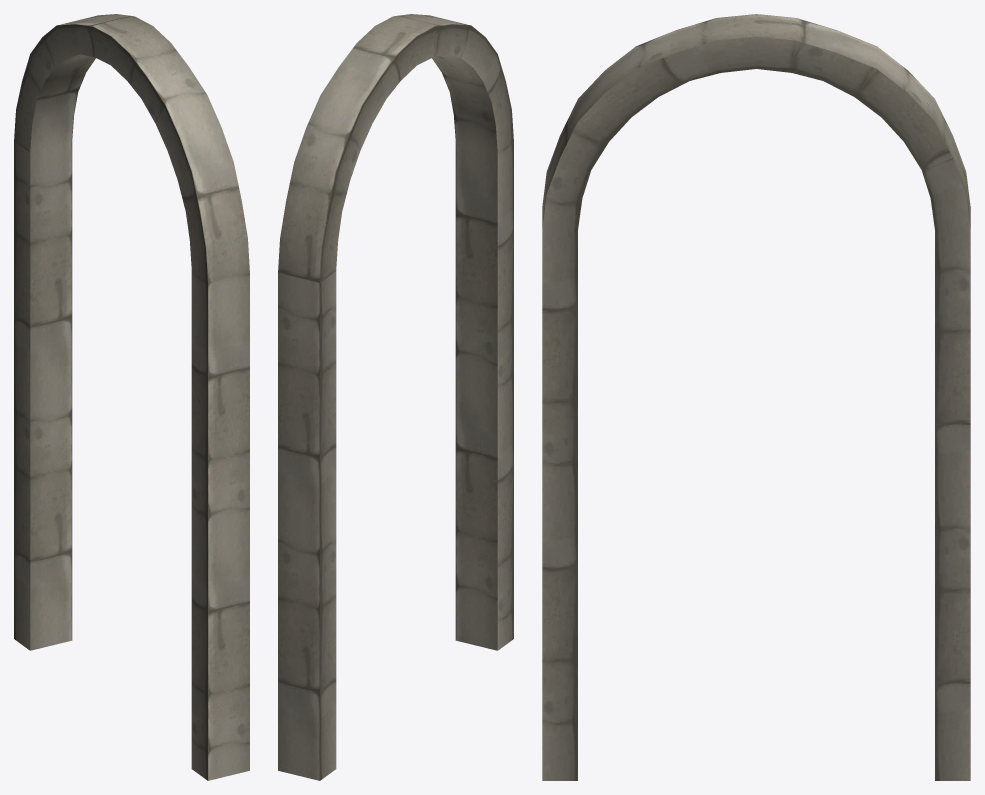
3 views of the same model, side by side, from view 1: azimuth 30°, elevation 25°; view 2: azimuth 150°, elevation 25°; view 3: azimuth 270°, elevation 25° (orthographic). The views are drawn at different scales.
Visible parts, largest first — view 1: body0_model0_lod0_mesh0; view 2: body0_model0_lod0_mesh0; view 3: body0_model0_lod0_mesh0.
Boxes of the visible parts, x1,y1,x2,y2 form: body0_model0_lod0_mesh0: (14, 14, 249, 780); body0_model0_lod0_mesh0: (278, 14, 513, 780); body0_model0_lod0_mesh0: (542, 14, 970, 780).
Size of the model in its own units: 11.99 by 184 by 96.01.
1 material, 1 textured.
